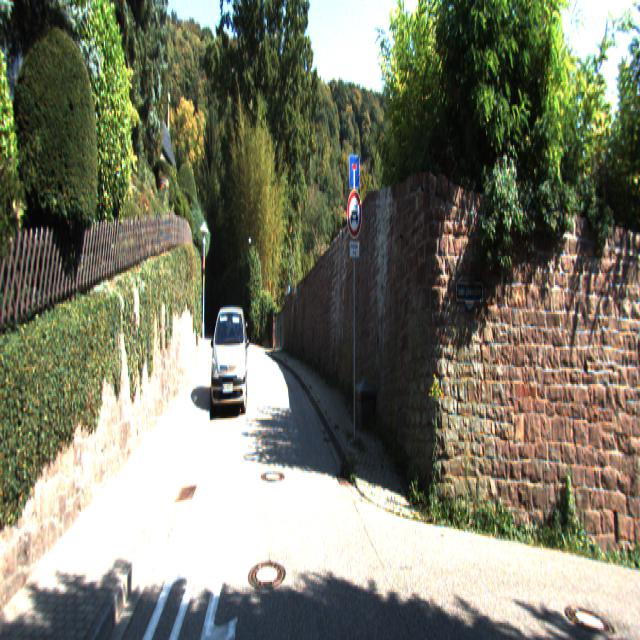Car: (210, 301, 248, 421), (225, 304, 248, 362)
